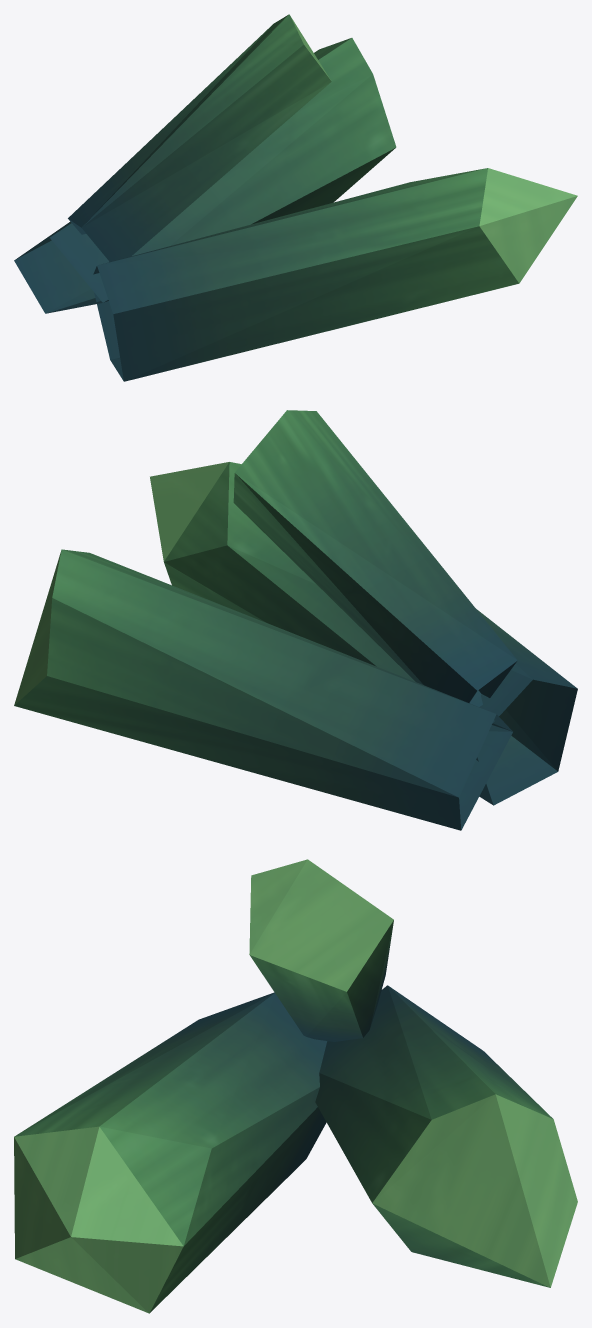
The model's file is Crystal1.fbx.
3 renders of one model, top to bottom at view 1: azimuth 30°, elevation 25°; view 2: azimuth 150°, elevation 25°; view 3: azimuth 270°, elevation 25°, orthographic. The views are drawn at different scales.
Visible parts, largest first — view 1: Crystal1; view 2: Crystal1; view 3: Crystal1.
Part boxes in pixels (left/top/right/bottom): Crystal1: left=14, top=14, right=577, bottom=381; Crystal1: left=14, top=410, right=577, bottom=830; Crystal1: left=14, top=859, right=577, bottom=1313.
Bounding box in the file's own units: 79.58 × 54.72 × 66.12.
Materials: 1 (1 with a texture image).
